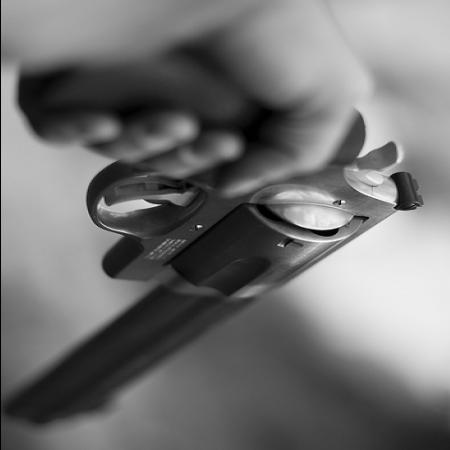Pistol: (2, 23, 425, 425)
